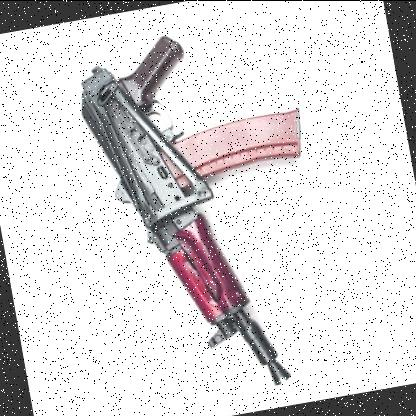rifle: (52, 4, 358, 415)
